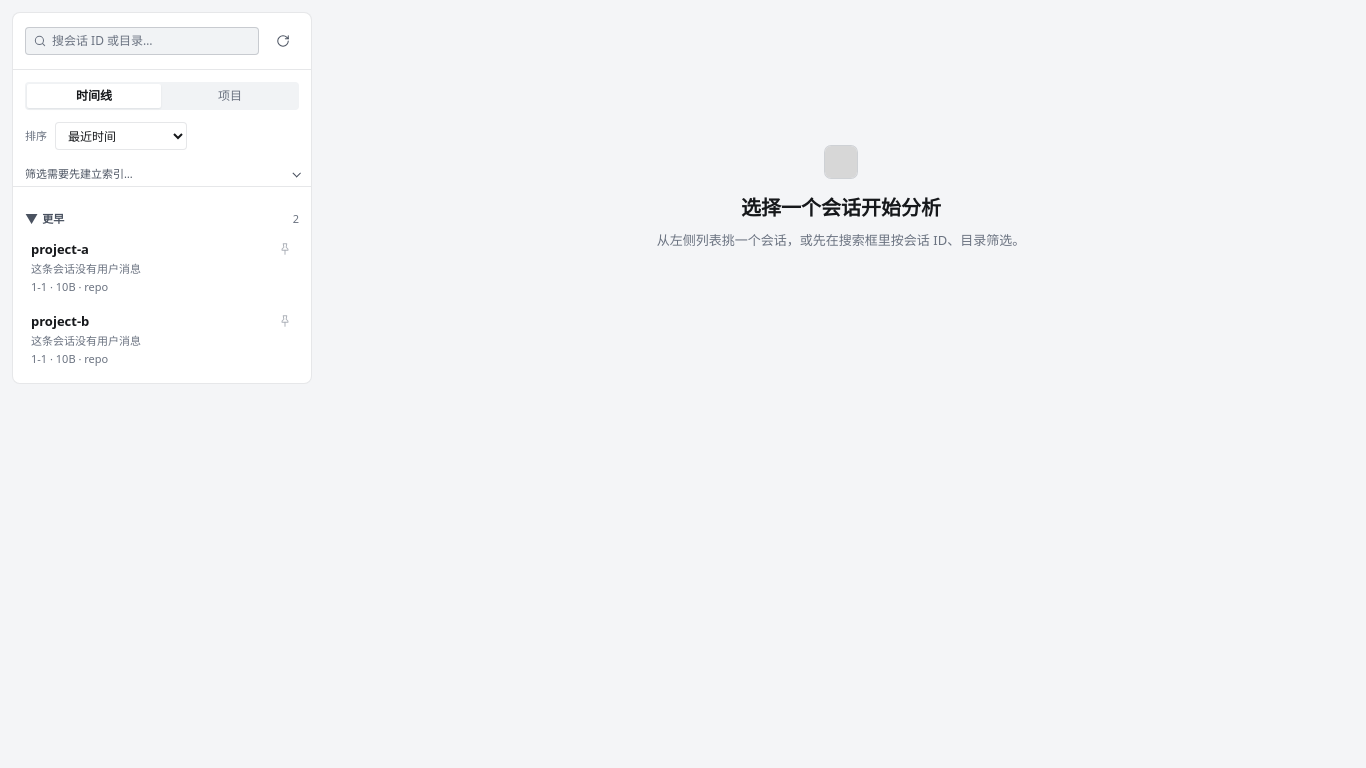
Test: ignores a stale session read after rapid switching
What coordinates should you click on to do the following:
click the button "project-a 这条会话没有用户消息 1-1 · 10B · repo"
I would click on:
 (60, 249)
Its box is 21,231 -> 303,303.
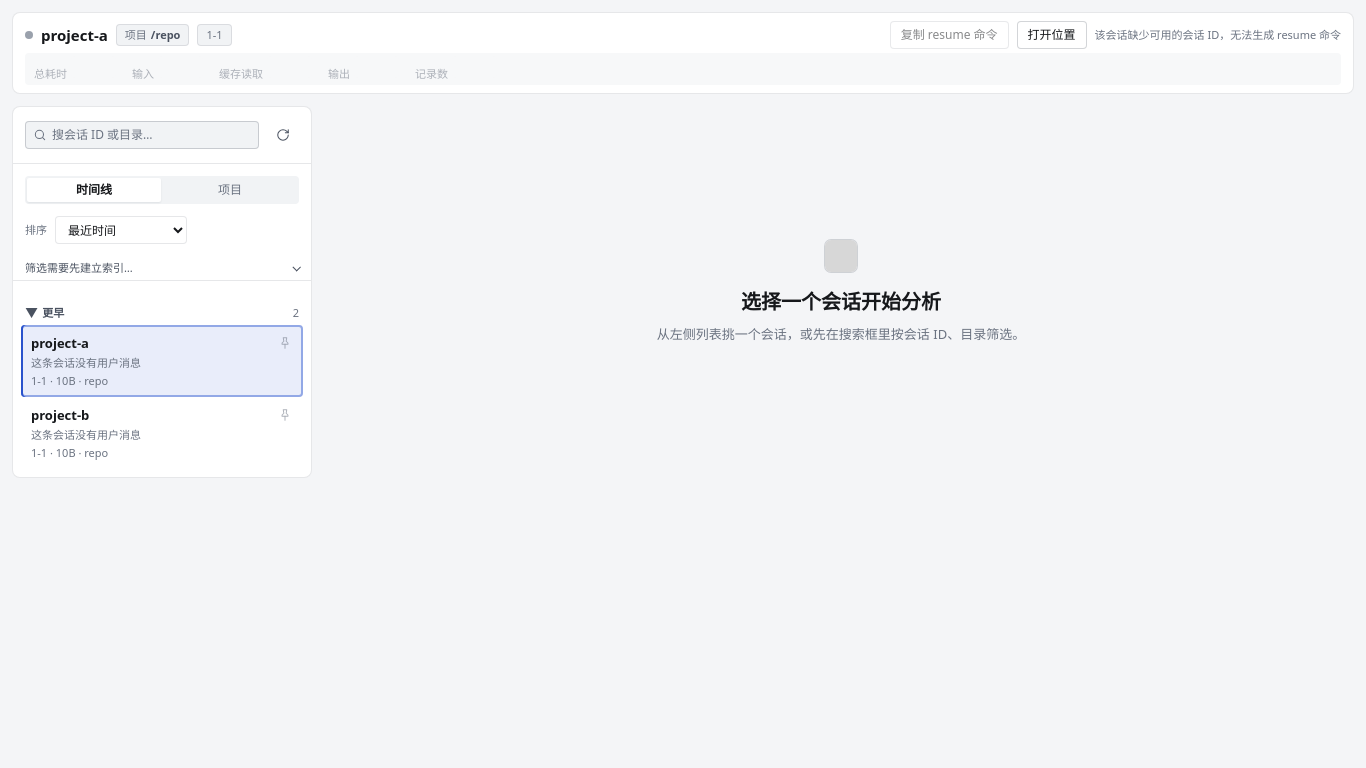
What coordinates should you click on to do the following:
click the button "project-b 这条会话没有用户消息 1-1 · 10B · repo"
I would click on:
 (60, 415)
Its box is 21,397 -> 303,469.
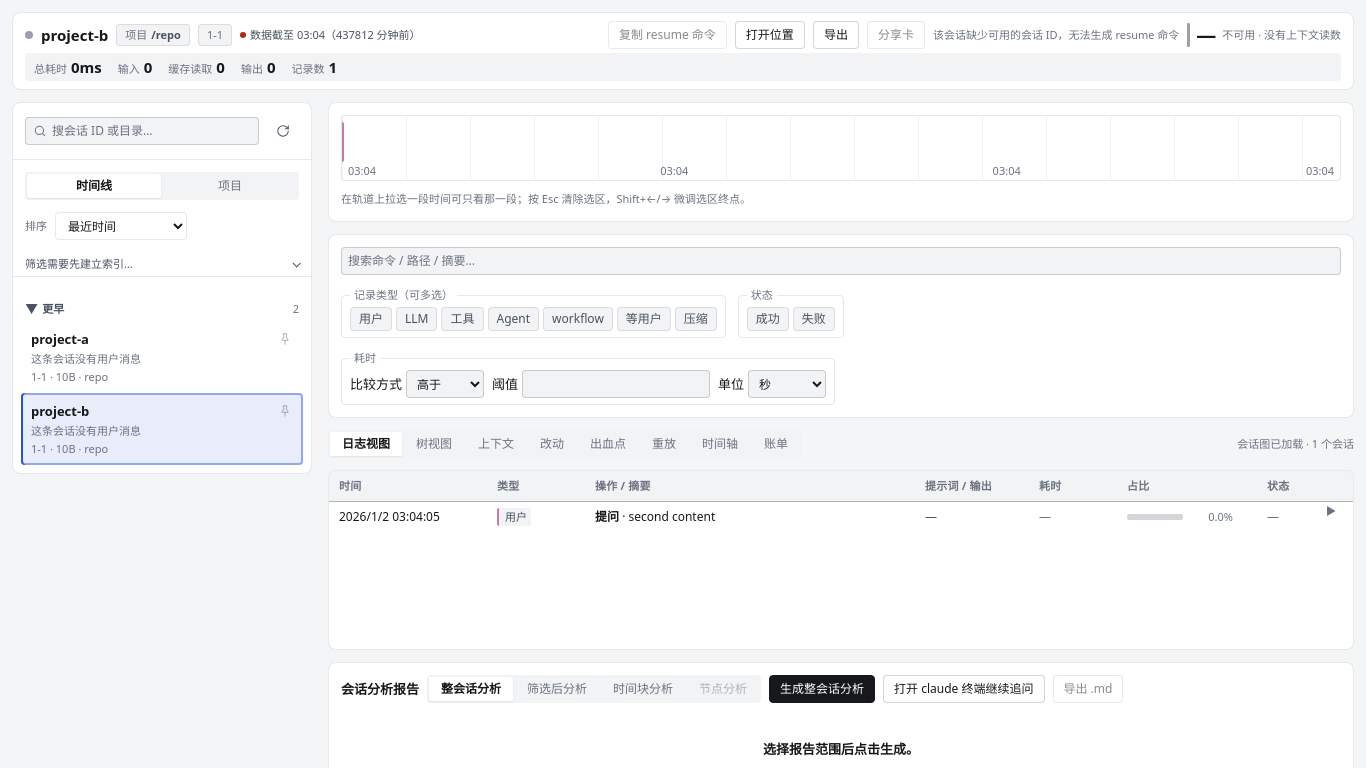
expect the text "提问 · second content" is shown: met, box 595,508 -> 715,524
